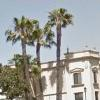Palm tree: (9, 5, 78, 65)
